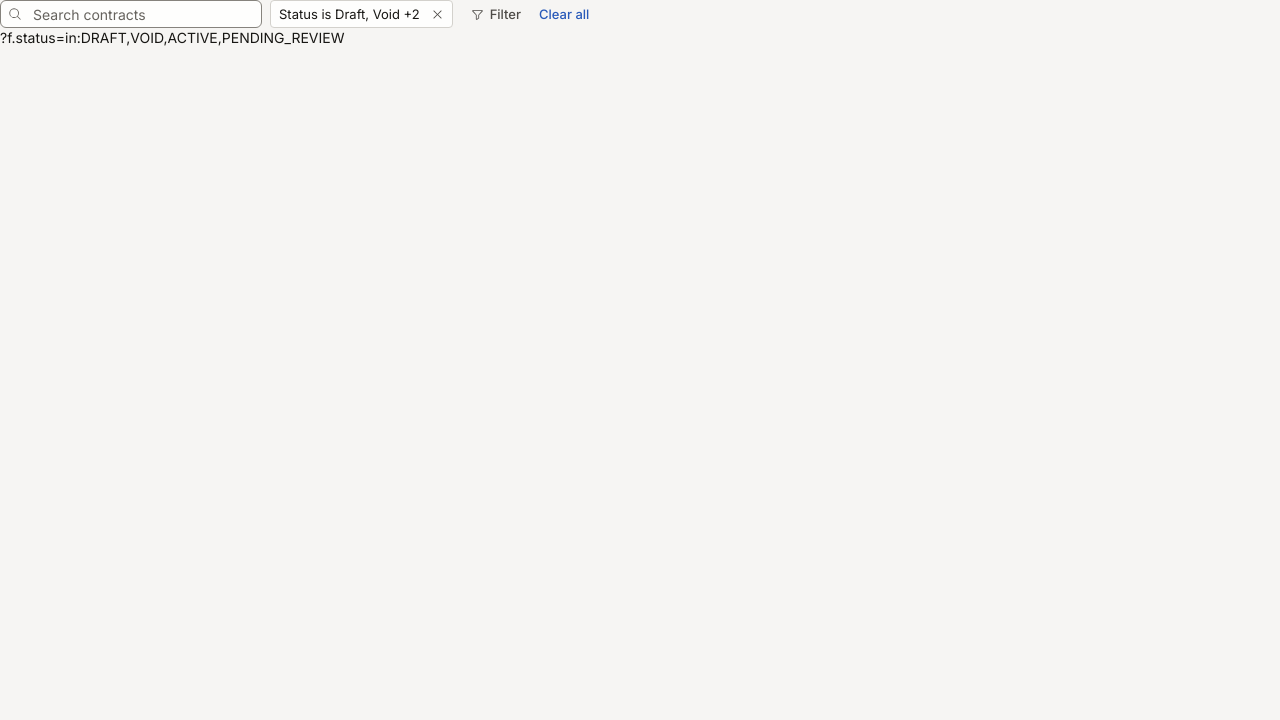
Scenario: DS-CMP-13 › truncates chip values after two items and rejects an empty selection inline
Expected: the button with aria-label ", edit filter" reads "Status is Draft, Void +2", top-left (271, 1), bottom-right (424, 27)
Click the button "Filter" at point(496, 14), box top-left (461, 0), bottom-right (531, 28)
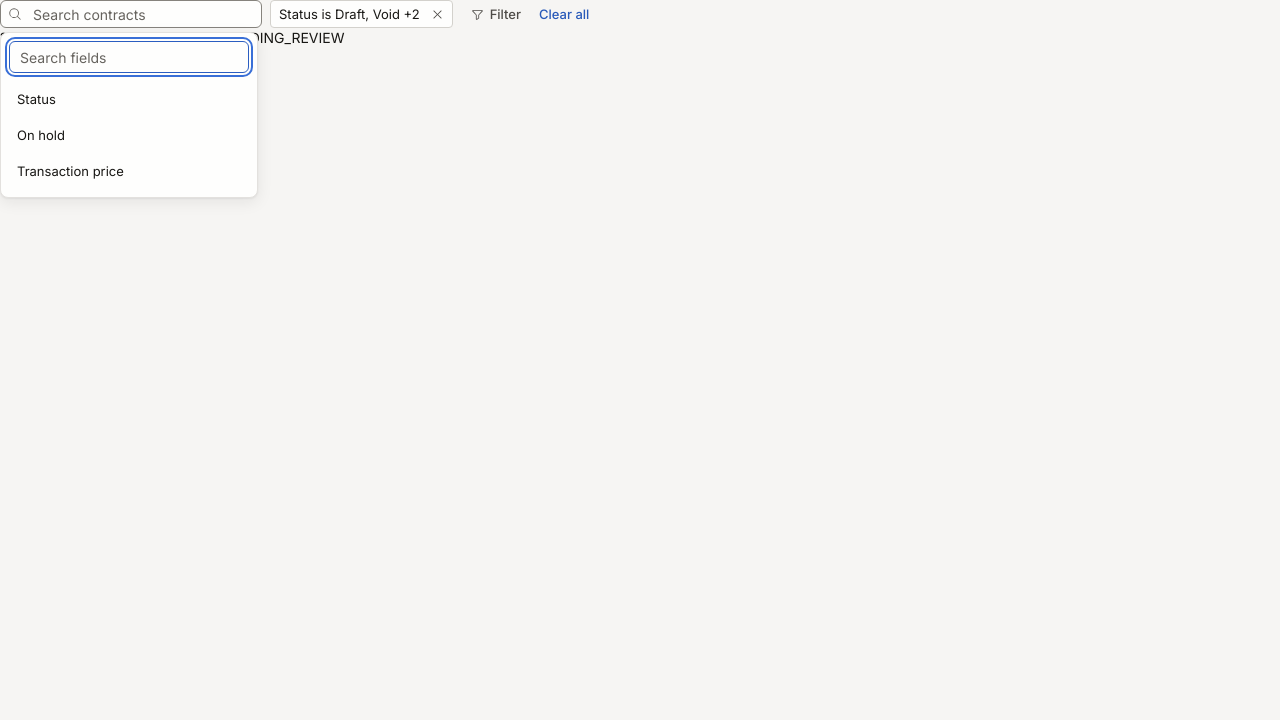
Click the button "Transaction price" at point(129, 171), box top-left (9, 153), bottom-right (249, 189)
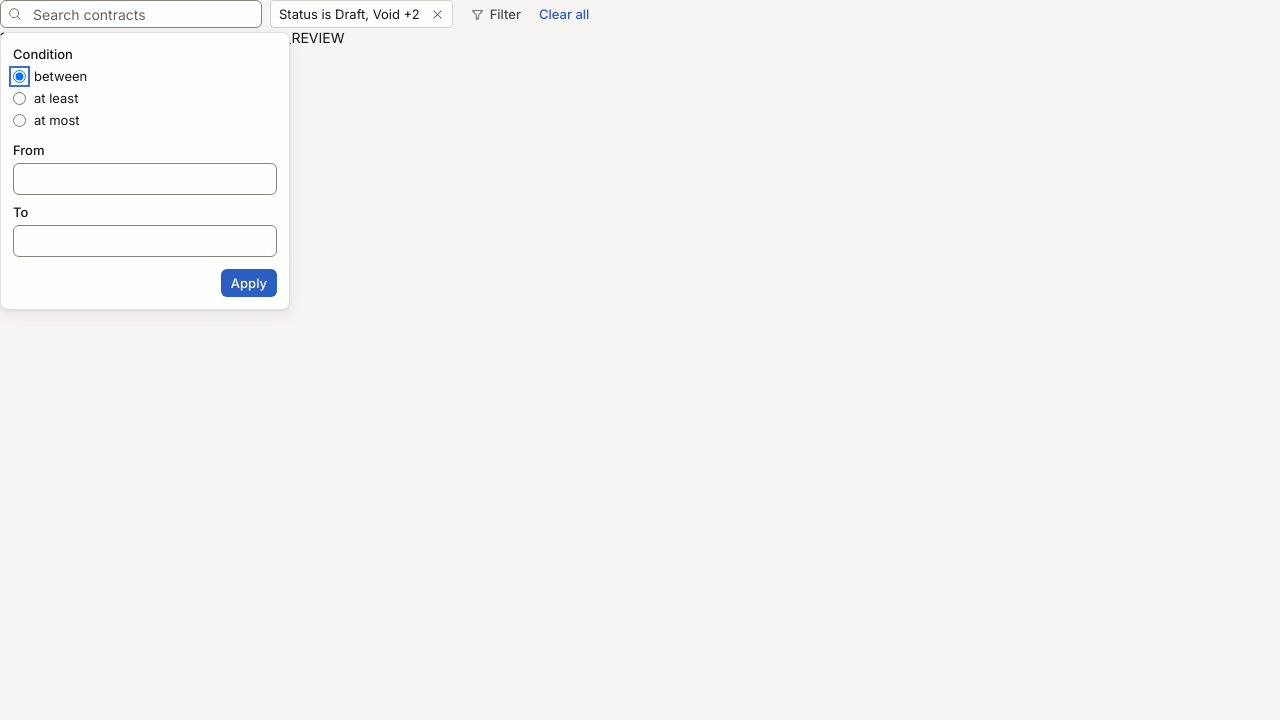
Click the button "Apply" at point(249, 283), box top-left (221, 269), bottom-right (277, 297)
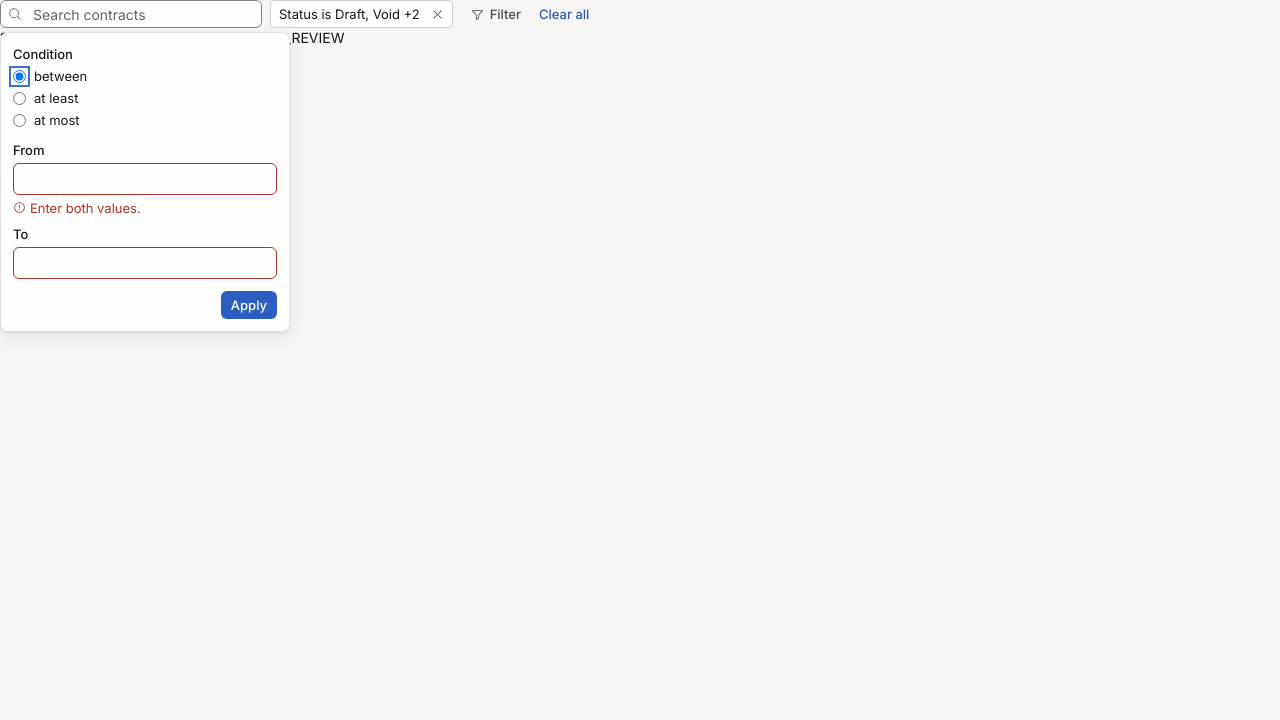
Expected: the text "Enter both values." is shown, top-left (13, 200), bottom-right (141, 216)
Type "1,000.5" into the field labelled "From" at point(145, 179), box top-left (13, 163), bottom-right (277, 195)
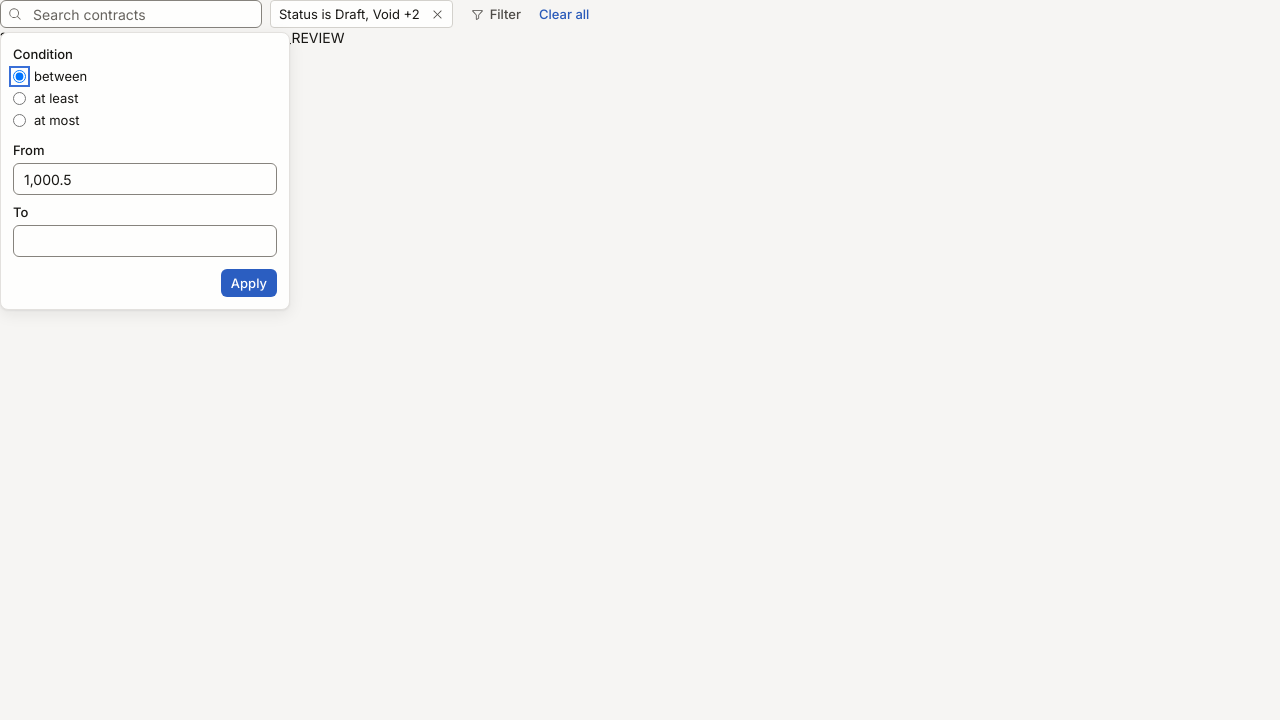
Type "abc" into the field labelled "To" at point(145, 241), box top-left (13, 225), bottom-right (277, 257)
Click the button "Apply" at point(249, 283), box top-left (221, 269), bottom-right (277, 297)
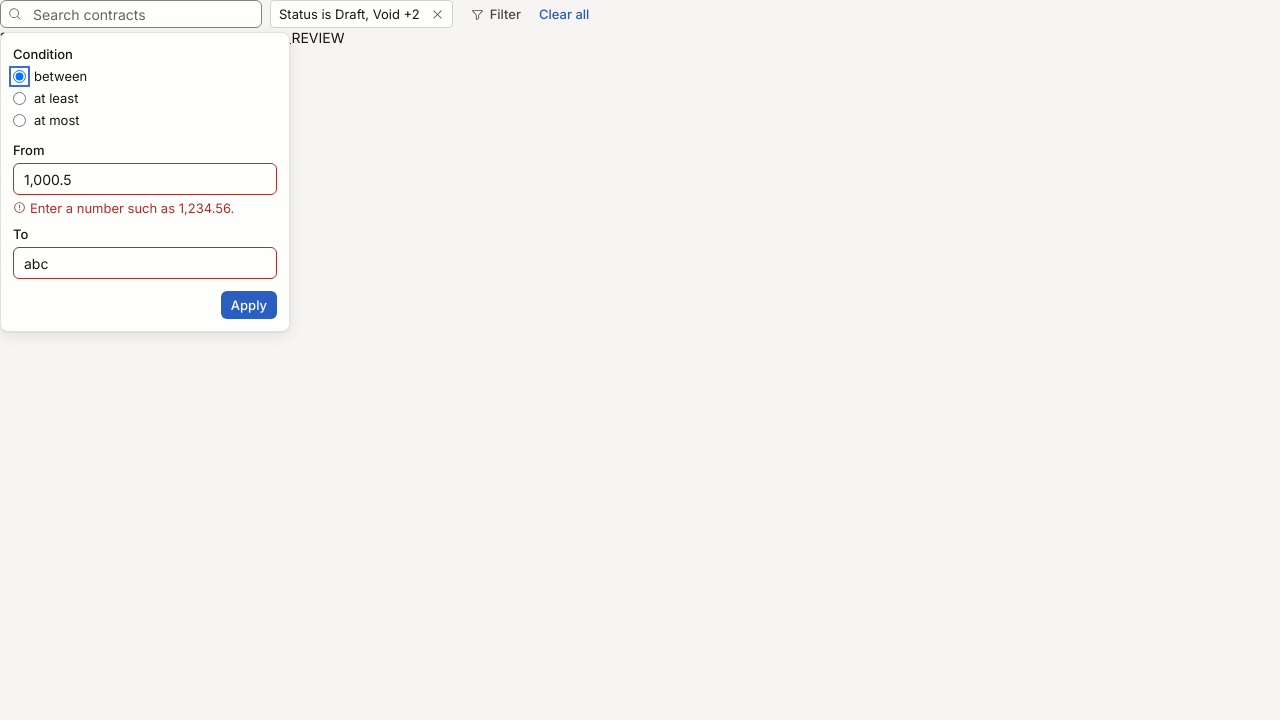
Expected: the text with test id "search" reads "?f.status=in:DRAFT,VOID,ACTIVE,PENDING_REVIEW", top-left (0, 29), bottom-right (344, 46)
Expected: the text "Enter a number such as 1,234.56." is shown, top-left (13, 200), bottom-right (234, 216)
Press Escape in the dialog named "Transaction price filter", box top-left (0, 32), bottom-right (290, 332)
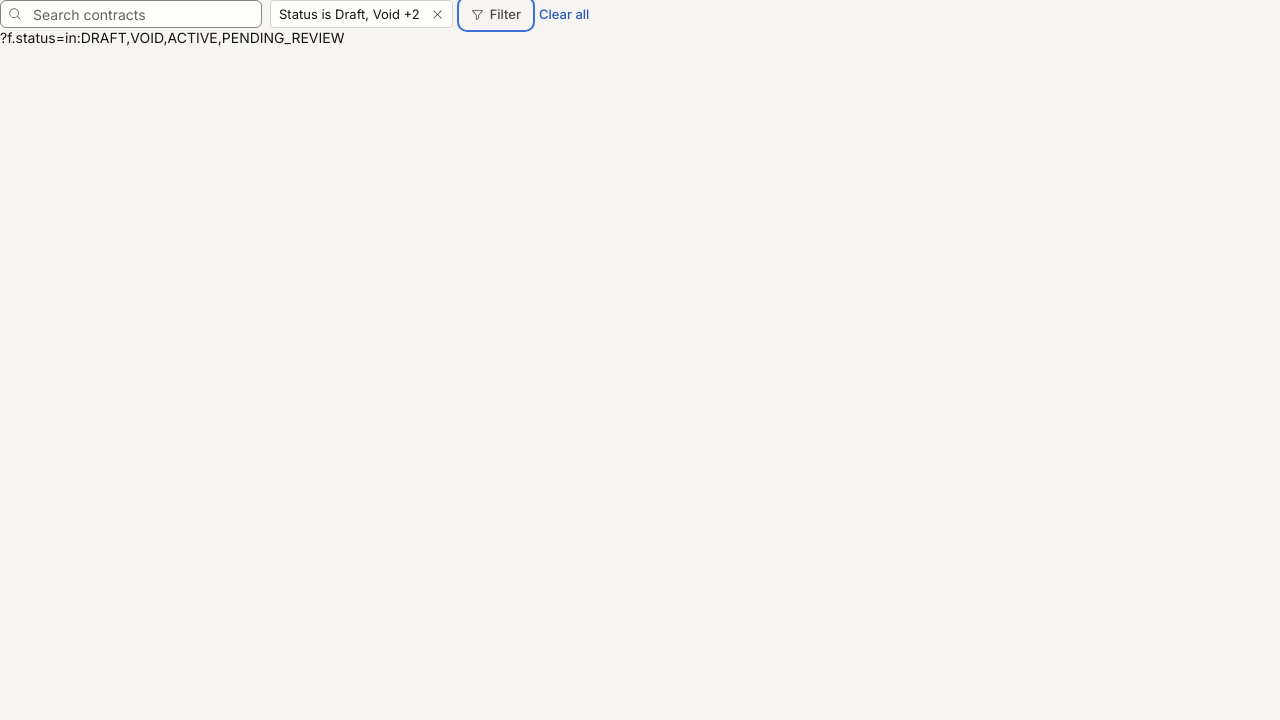
Expected: the dialog is gone
